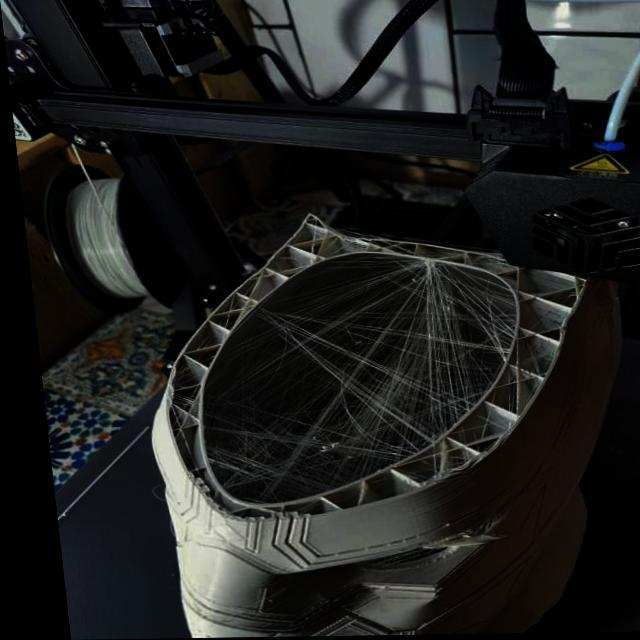stringing: (146, 238, 532, 518)
